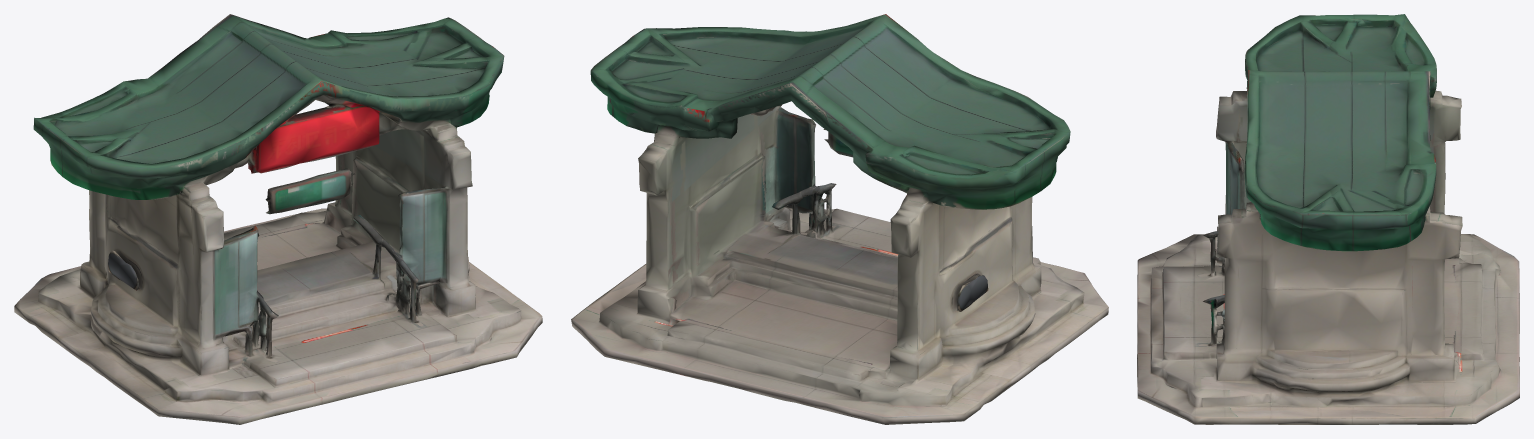
File: metro_entrance.glb
The picture shows the model from 3 angles, left to right: view 1: azimuth 30°, elevation 25°; view 2: azimuth 150°, elevation 25°; view 3: azimuth 270°, elevation 25°; orthographic projection. The views are drawn at different scales.
Size of the model in its own units: 2.01 by 1.23 by 1.63.
Materials: 1 (1 with a texture image).
